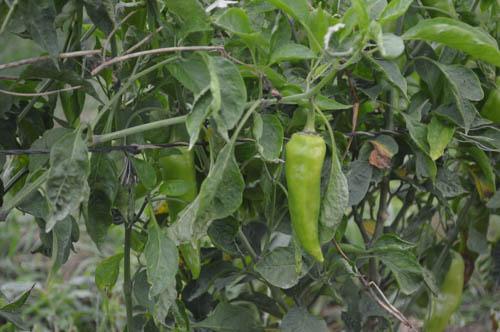ChiliPepper: (284, 133, 329, 264), (161, 149, 202, 280), (427, 255, 467, 331)
